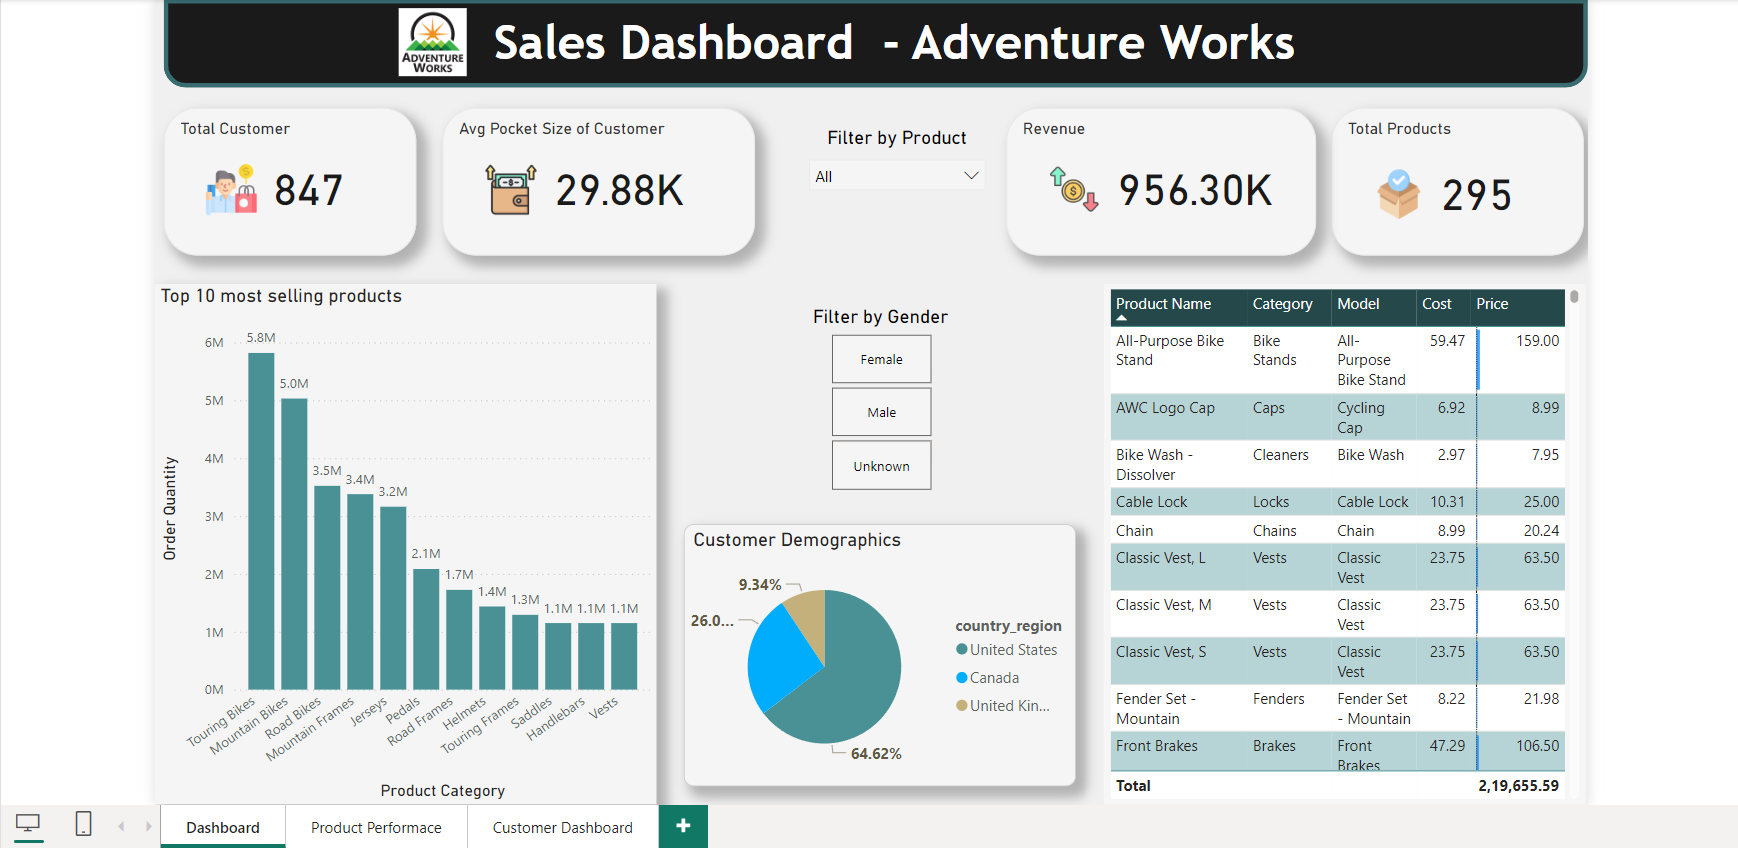

What the dashboard file says about the page in this screenshot:
{"tool":"powerbi","page":{"name":"Dashboard","canvas":[1280,720],"ordinal":0},"visuals":[{"type":"shape","box":[7.9,0,1272.1,79.1],"z":0},{"type":"textbox","box":[193.3,9,909,61.5],"z":1000},{"type":"cardVisual","title":"Total Products","fields":{"Data":["CountNonNull(Product.product_id)"]},"box":[1051.1,97.3,225.3,131.9],"z":2000},{"type":"image","box":[186.9,3.8,122.9,70.4],"z":3000},{"type":"cardVisual","title":"Revenue","fields":{"Data":["Sum(SalesOrderHeader.TotalDue)"]},"box":[760.5,97.3,276.5,131.9],"z":5000},{"type":"cardVisual","title":"Total Customer","fields":{"Data":["CountNonNull(Customer.customer_id)"]},"box":[7.7,97.3,225.3,131.9],"z":6000},{"type":"clusteredColumnChart","title":"Top 10 most selling products","fields":{"Category":["ProductCategory.name"],"Y":["Sum(SalesOrderDetail.sales_order_id)"]},"box":[0,254.8,448.1,464.7],"z":7000},{"type":"cardVisual","title":"Avg Pocket Size of Customer","fields":{"Data":["Avg(Customer.AvgPocketSizePerCustomer)"]},"box":[257.3,97.3,279.1,131.9],"z":8000},{"type":"pieChart","title":"Customer Demographics","fields":{"Category":["address.country_region"],"Y":["CountNonNull(Customer.customer_id)"]},"box":[472.4,468.6,350.8,234.3],"z":9000},{"type":"tableEx","fields":{"Values":["Product.name","ProductCategory.name","ProductModel.name","Product.standard_cost","Sum(Product.list_price)"]},"box":[847.5,254.8,430.2,464.7],"z":10000},{"type":"slicer","title":"Filter by Gender","fields":{"Values":["Customer.Gender"]},"box":[578.7,274,139.5,171.6],"z":10001},{"type":"slicer","title":"Filter by Product","fields":{"Values":["Product.name"]},"box":[573.6,113.9,178,64],"z":10002}]}

Visuals, with their boxes on the page's 1280x720 design canvas (x1, y1, x2, y2). These are canvas units, not pixel positions in the 1738x848 screenshot, which may show the page scaled, cropped or inside an application window:
shape: region(8, 0, 1280, 79)
textbox: region(193, 9, 1102, 70)
"Total Products" cardVisual: region(1051, 97, 1276, 229)
image: region(187, 4, 310, 74)
"Revenue" cardVisual: region(760, 97, 1037, 229)
"Total Customer" cardVisual: region(8, 97, 233, 229)
"Top 10 most selling products" clusteredColumnChart: region(0, 255, 448, 720)
"Avg Pocket Size of Customer" cardVisual: region(257, 97, 536, 229)
"Customer Demographics" pieChart: region(472, 469, 823, 703)
tableEx - Product.name x ProductCategory.name: region(848, 255, 1278, 720)
"Filter by Gender" slicer: region(579, 274, 718, 446)
"Filter by Product" slicer: region(574, 114, 752, 178)
